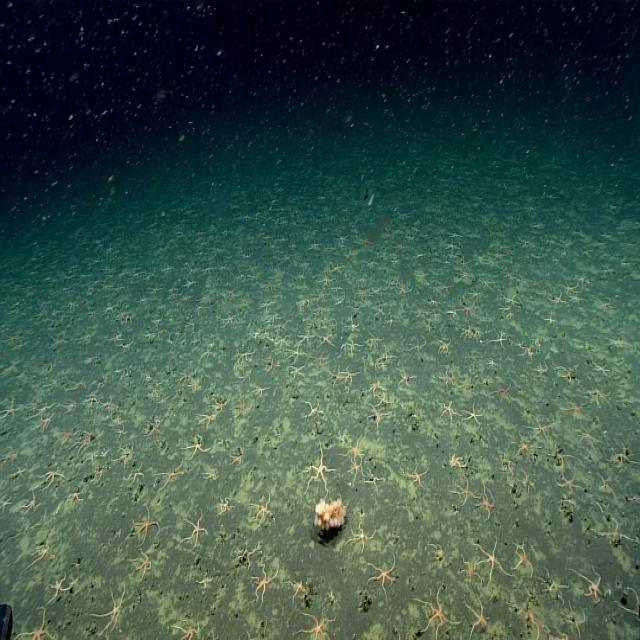brittle-stars: (302, 441, 336, 494), (417, 594, 458, 635), (127, 548, 165, 588), (16, 600, 54, 640), (99, 580, 126, 636), (476, 536, 510, 580), (364, 556, 397, 598), (250, 564, 283, 604), (599, 523, 639, 556), (126, 504, 154, 550), (179, 509, 207, 553), (574, 568, 604, 607), (462, 602, 491, 640), (346, 510, 373, 550), (401, 454, 429, 491), (510, 539, 536, 578), (298, 612, 334, 640), (250, 491, 272, 534), (517, 602, 540, 640), (540, 572, 570, 600), (526, 416, 556, 444), (45, 572, 74, 599), (437, 396, 464, 424), (575, 425, 602, 451), (185, 429, 209, 458), (41, 463, 65, 492), (13, 495, 42, 519), (465, 397, 488, 427), (516, 427, 538, 458), (589, 354, 617, 378), (31, 539, 55, 566), (0, 403, 24, 429), (473, 491, 495, 519), (452, 478, 474, 506), (170, 621, 202, 640), (610, 444, 635, 468), (564, 397, 588, 422), (300, 396, 323, 420), (548, 446, 570, 471), (288, 581, 314, 602), (446, 450, 470, 472), (372, 347, 396, 369), (393, 366, 414, 391), (585, 384, 610, 404), (362, 405, 382, 430), (558, 362, 580, 384), (158, 462, 178, 486), (144, 415, 165, 437), (47, 331, 69, 352), (557, 473, 580, 493), (438, 366, 458, 389), (341, 438, 365, 457), (348, 454, 366, 479), (463, 556, 479, 584), (516, 340, 536, 362), (288, 360, 308, 382), (248, 381, 272, 399), (340, 336, 359, 358), (327, 364, 344, 388), (494, 380, 514, 400), (342, 368, 362, 388), (114, 448, 135, 467), (521, 474, 543, 492), (34, 401, 57, 418), (226, 445, 242, 469), (311, 349, 330, 369), (428, 541, 445, 563), (407, 334, 424, 356), (436, 337, 455, 356), (459, 374, 477, 394), (367, 373, 385, 393), (264, 351, 282, 371), (296, 327, 314, 347), (35, 414, 52, 435), (78, 436, 94, 458), (317, 330, 335, 349), (233, 344, 254, 360), (288, 343, 306, 361), (11, 464, 31, 480), (502, 454, 518, 474), (531, 363, 551, 379), (494, 326, 510, 346), (211, 394, 228, 412), (344, 315, 361, 333), (68, 376, 87, 392), (132, 466, 145, 489), (67, 488, 83, 506), (179, 364, 192, 386), (58, 424, 73, 443), (367, 359, 386, 374), (196, 413, 216, 427), (367, 333, 384, 349), (504, 290, 522, 305), (375, 394, 394, 408), (150, 381, 162, 403), (221, 311, 237, 327), (84, 447, 101, 462), (472, 324, 487, 341), (232, 400, 246, 418), (195, 572, 211, 587), (151, 330, 167, 345), (562, 279, 578, 294), (3, 333, 20, 347), (460, 327, 474, 344), (115, 342, 134, 354), (369, 471, 384, 486), (102, 398, 117, 413), (599, 475, 614, 490), (200, 345, 215, 360), (113, 427, 129, 441), (218, 502, 232, 517), (203, 467, 217, 482), (92, 467, 107, 481), (460, 300, 475, 314), (0, 495, 11, 514), (82, 394, 98, 407), (550, 291, 563, 307), (447, 305, 459, 322), (106, 334, 124, 345), (609, 339, 627, 350), (542, 316, 558, 328), (192, 376, 202, 395), (275, 334, 288, 348), (600, 298, 613, 312), (80, 328, 92, 343), (1, 450, 14, 463), (484, 358, 498, 370), (426, 318, 435, 336), (230, 357, 242, 370), (188, 338, 201, 350), (497, 301, 509, 312), (415, 308, 428, 318), (112, 416, 123, 427), (49, 377, 60, 388), (505, 313, 517, 323), (28, 400, 38, 411), (65, 402, 77, 411), (250, 330, 260, 340), (260, 330, 272, 338), (429, 298, 441, 306)
